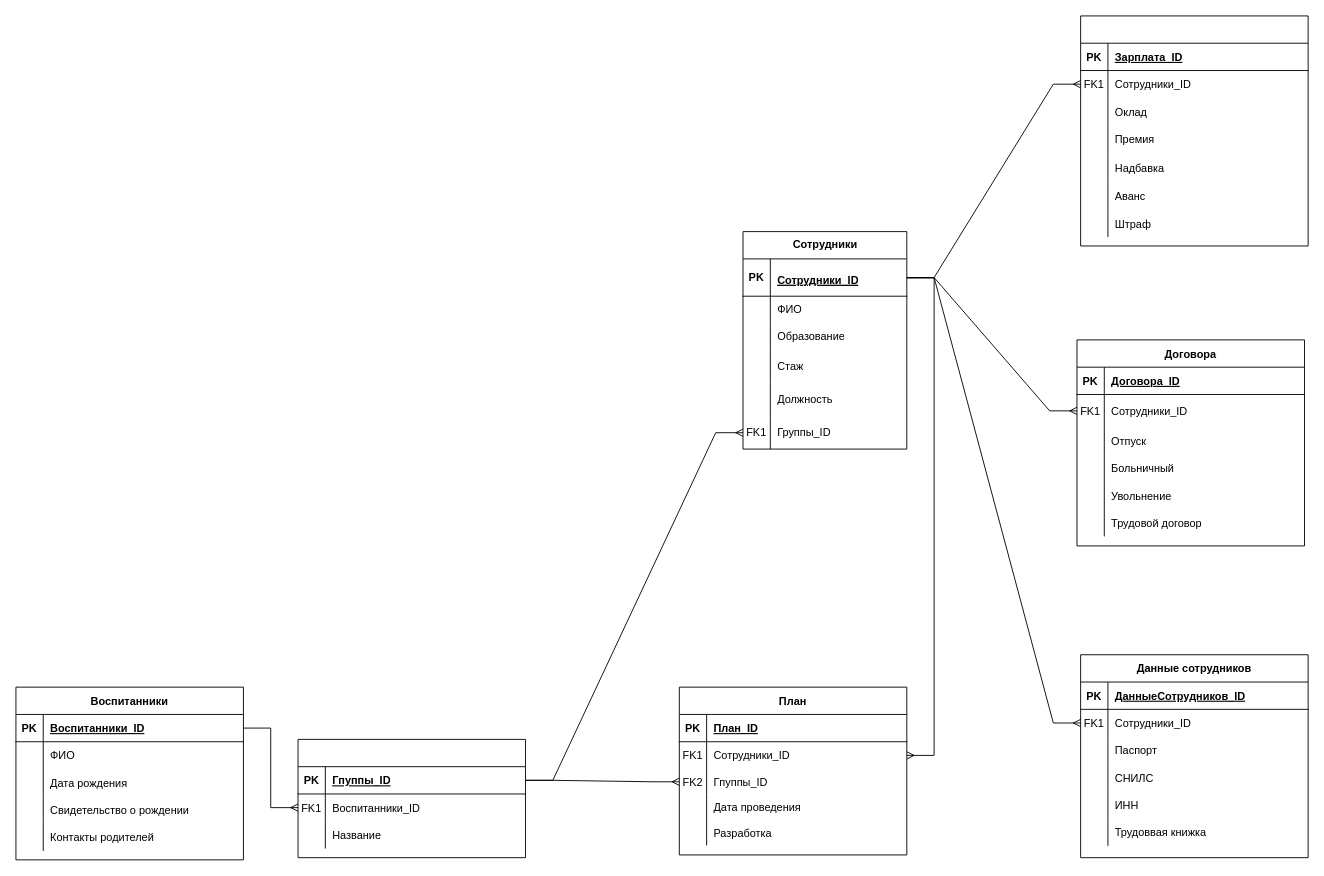
Some shapes in this 1324 by 876 pixel diagram are drawn without their labels. The shapes that lost their labels are listed below. From the top down, each one's box as (x1, y1, x2, y2) in pixels, then its label:
(1080, 15, 1308, 246): Заработная плата
(297, 738, 526, 858): Группы
